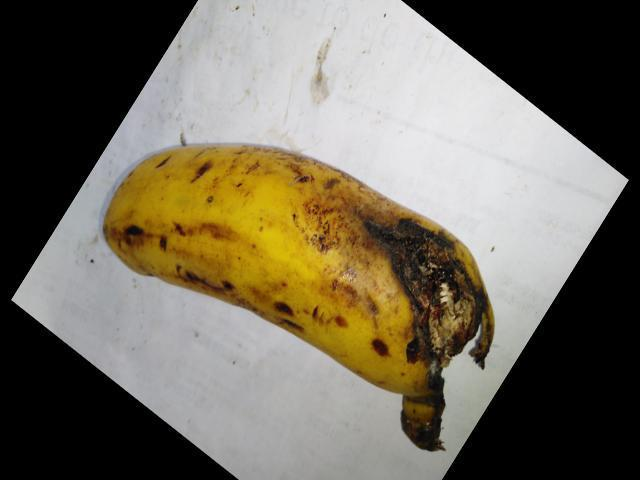ripe: (83, 127, 373, 362)
rotten: (341, 187, 499, 451)
